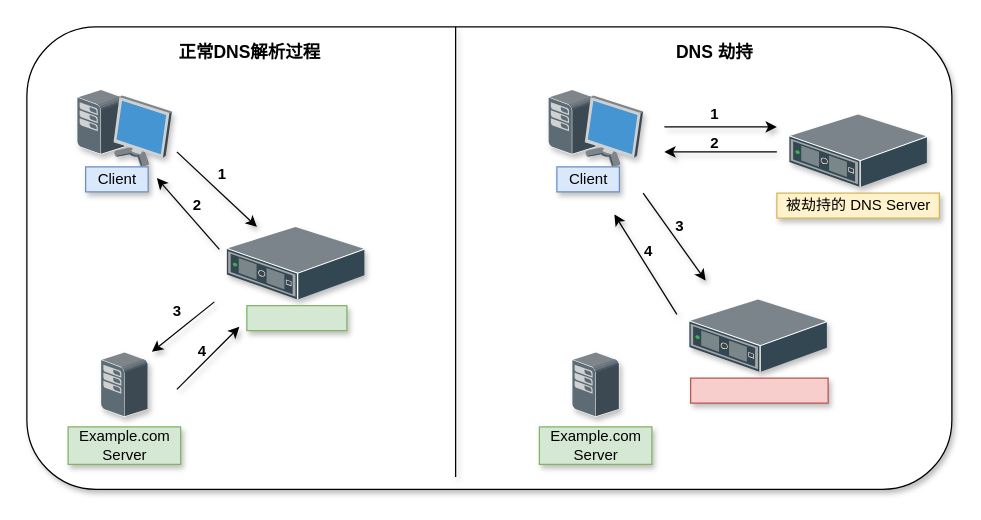
This 981x520 diagram has some shape labels left out. Each missing label, with the centre of its shape:
"DNS Server" belongs at [297,319].
"恶意 DNS Server" belongs at [760,392].
